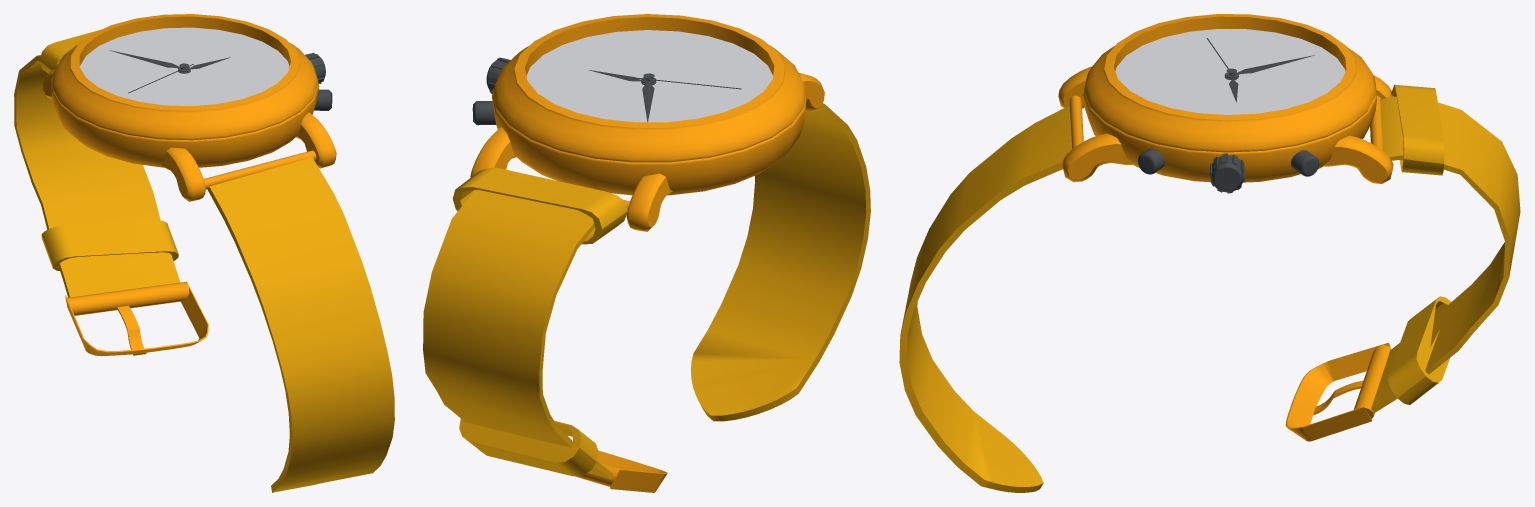
File: watch1.fbx
3 views of the same model, side by side, from view 1: azimuth 30°, elevation 25°; view 2: azimuth 150°, elevation 25°; view 3: azimuth 270°, elevation 25° (orthographic). The views are drawn at different scales.
Parts seen in each view (by area): view 1: watch1; view 2: watch1; view 3: watch1.
Part boxes in pixels (box(x1,y1,x2,y2)): watch1: box(14, 14, 394, 492); watch1: box(423, 14, 870, 492); watch1: box(899, 14, 1520, 492).
Size of the model in its own units: 25.25 by 35.75 by 49.57.
1 material, 1 textured.
